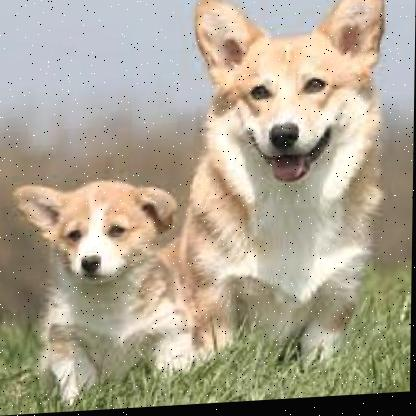dog: (178, 0, 388, 376), (9, 171, 202, 410)
